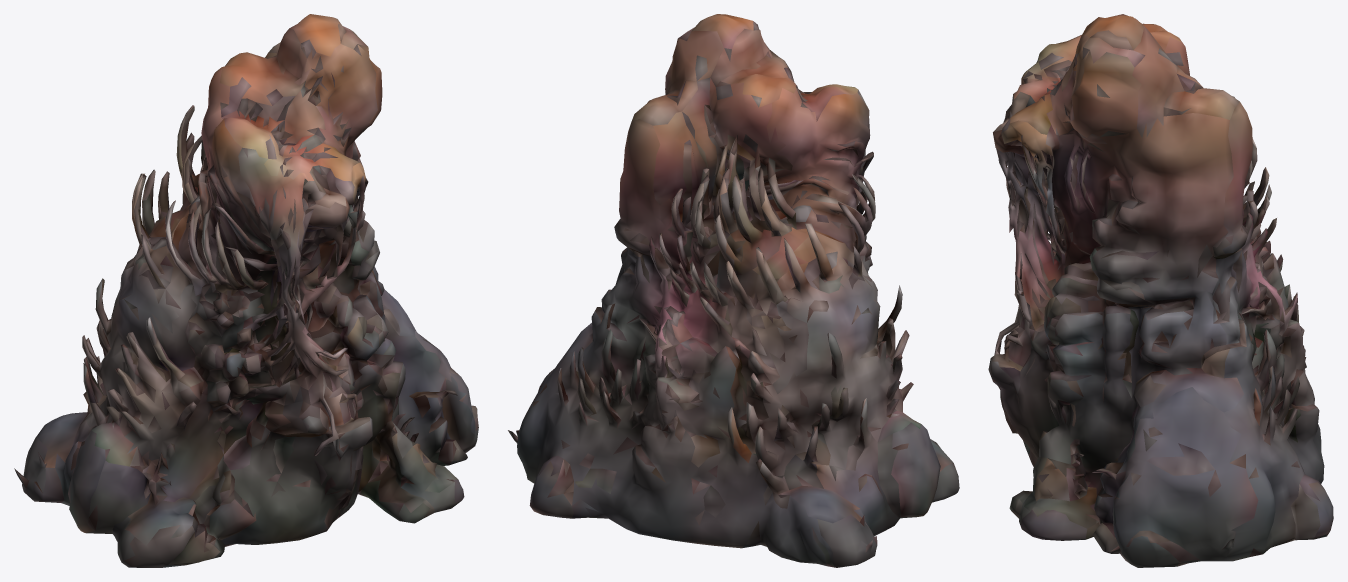
Rendered from Guecubu_final.glb.
3 views of the same model, side by side, from view 1: azimuth 30°, elevation 25°; view 2: azimuth 150°, elevation 25°; view 3: azimuth 270°, elevation 25° (orthographic). The views are drawn at different scales.
Parts seen in each view (by area): view 1: Mesh_0.001; view 2: Mesh_0.001; view 3: Mesh_0.001.
Boxes of the visible parts, left/top/right/bottom form: Mesh_0.001: left=14, top=14, right=478, bottom=567; Mesh_0.001: left=508, top=14, right=959, bottom=567; Mesh_0.001: left=988, top=14, right=1333, bottom=567.
Size of the model in its own units: 1.52 by 1.7 by 1.13.
Materials: 1 (1 with a texture image).
